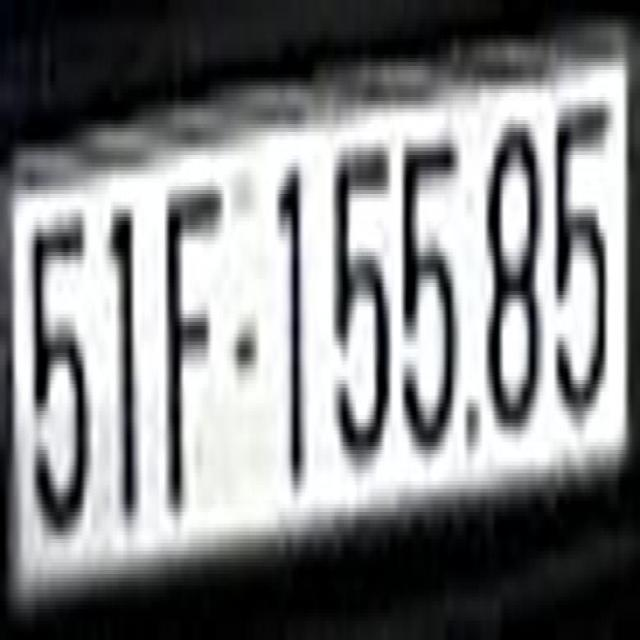1: (274, 155, 306, 508), (110, 205, 140, 536)
5: (326, 136, 394, 473), (31, 194, 92, 547), (400, 120, 462, 466), (554, 109, 610, 422)
8: (483, 108, 544, 450)
F: (160, 167, 225, 520)
